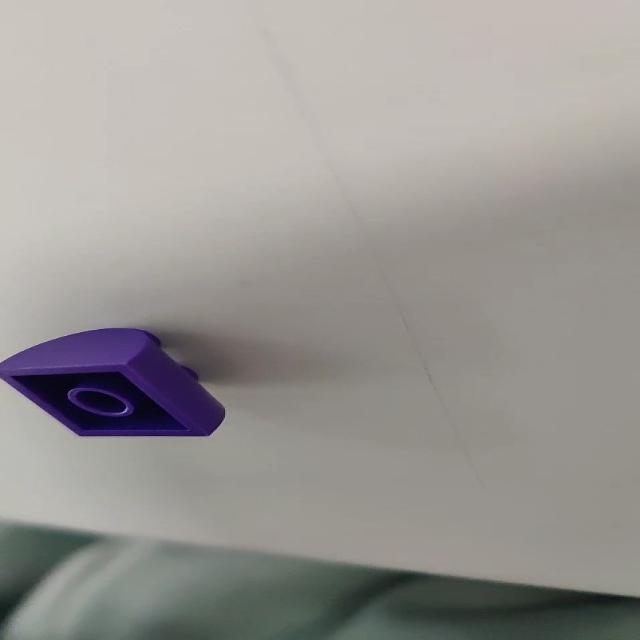H2x2x1: (0, 325, 230, 439)
